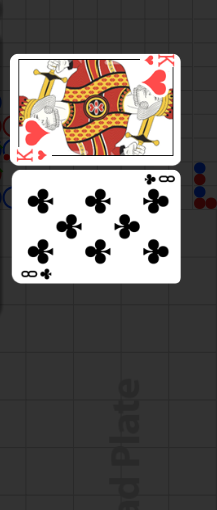8C: (19, 267, 53, 281)
